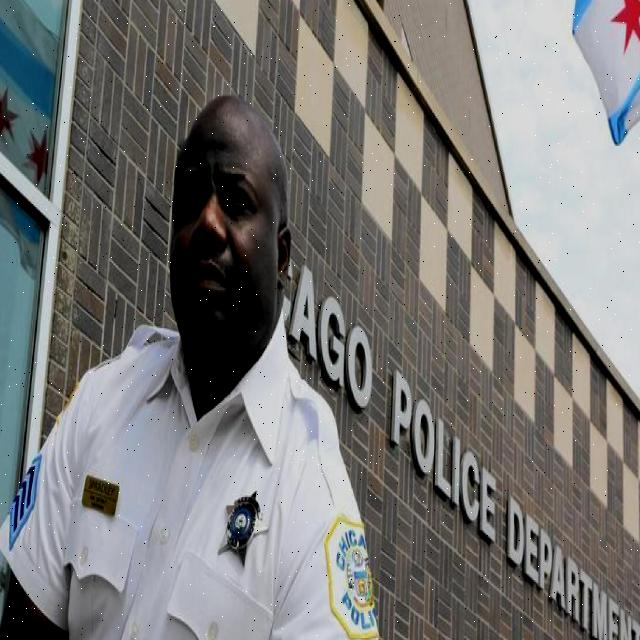police: (0, 96, 380, 640)
